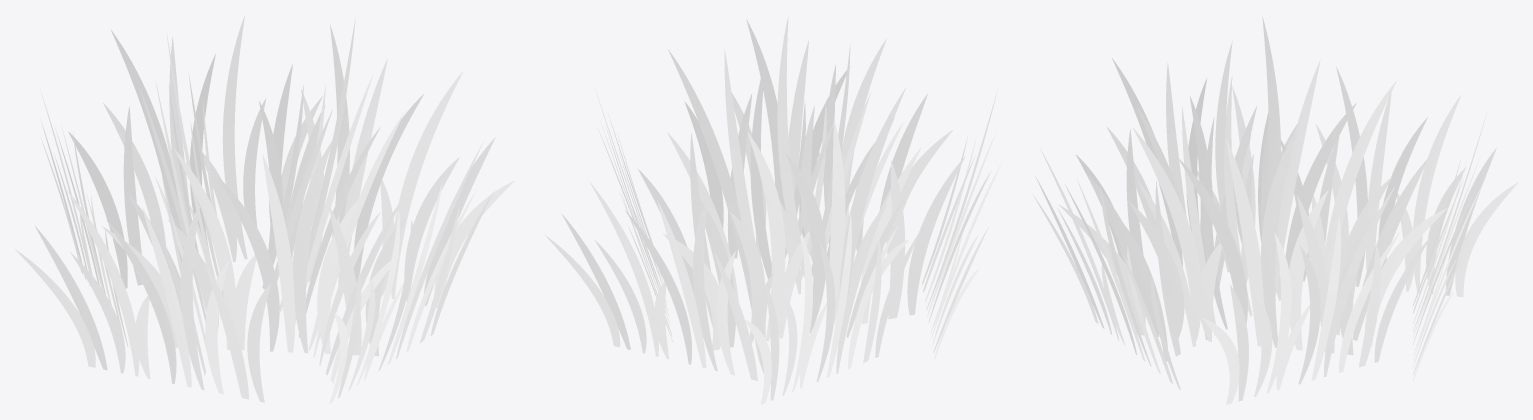
Rendered from Grass_1.fbx.
The picture shows the model from 3 angles, left to right: view 1: azimuth 30°, elevation 25°; view 2: azimuth 150°, elevation 25°; view 3: azimuth 270°, elevation 25°; orthographic projection. The views are drawn at different scales.
Visible parts, largest first — view 1: Grass_1; view 2: Grass_1; view 3: Grass_1.
Part boxes in pixels (box(x1,y1,x2,y2)): Grass_1: box(15, 16, 514, 404); Grass_1: box(545, 16, 1002, 404); Grass_1: box(1033, 16, 1518, 404).
Size of the model in its own units: 86.84 by 52.47 by 87.68.
